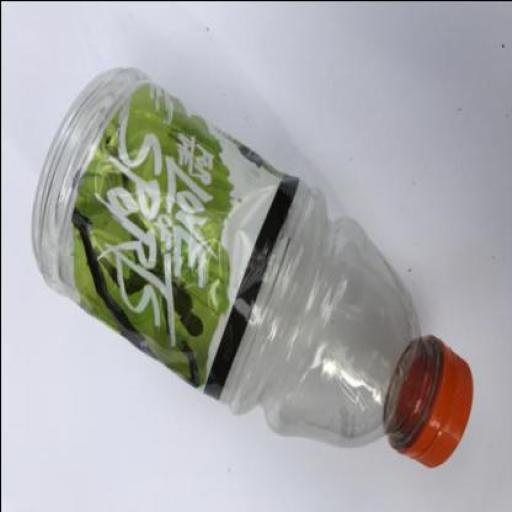plastic: (29, 63, 472, 466), (383, 332, 471, 466)
